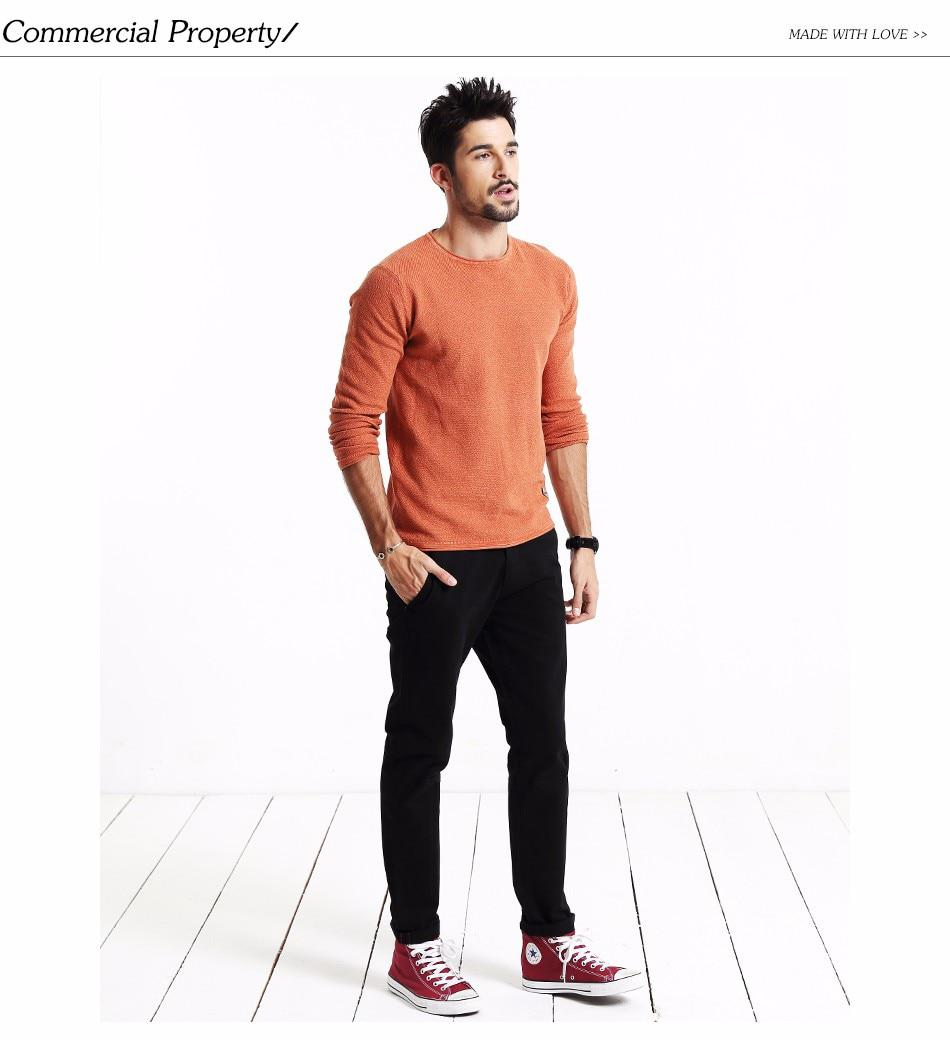pants: (371, 539, 576, 929)
